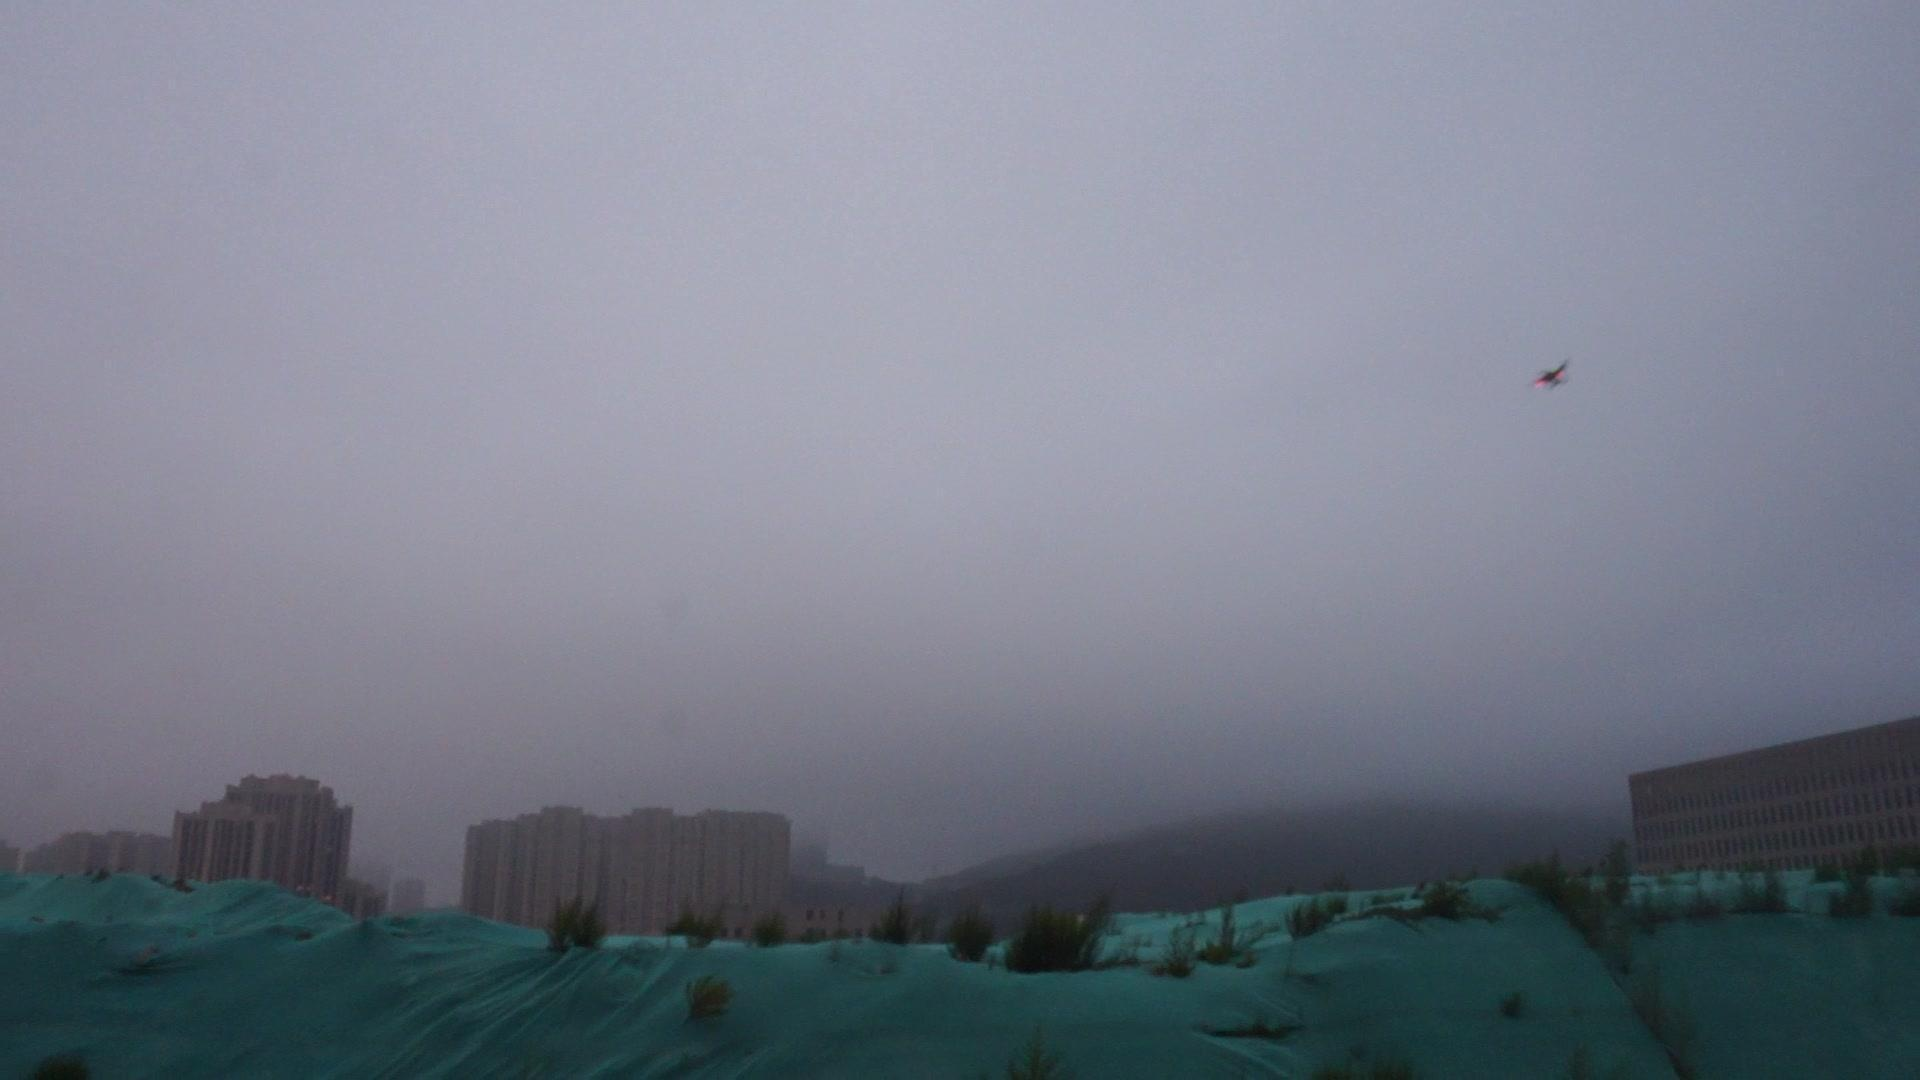UAV: (1530, 361, 1571, 392)
